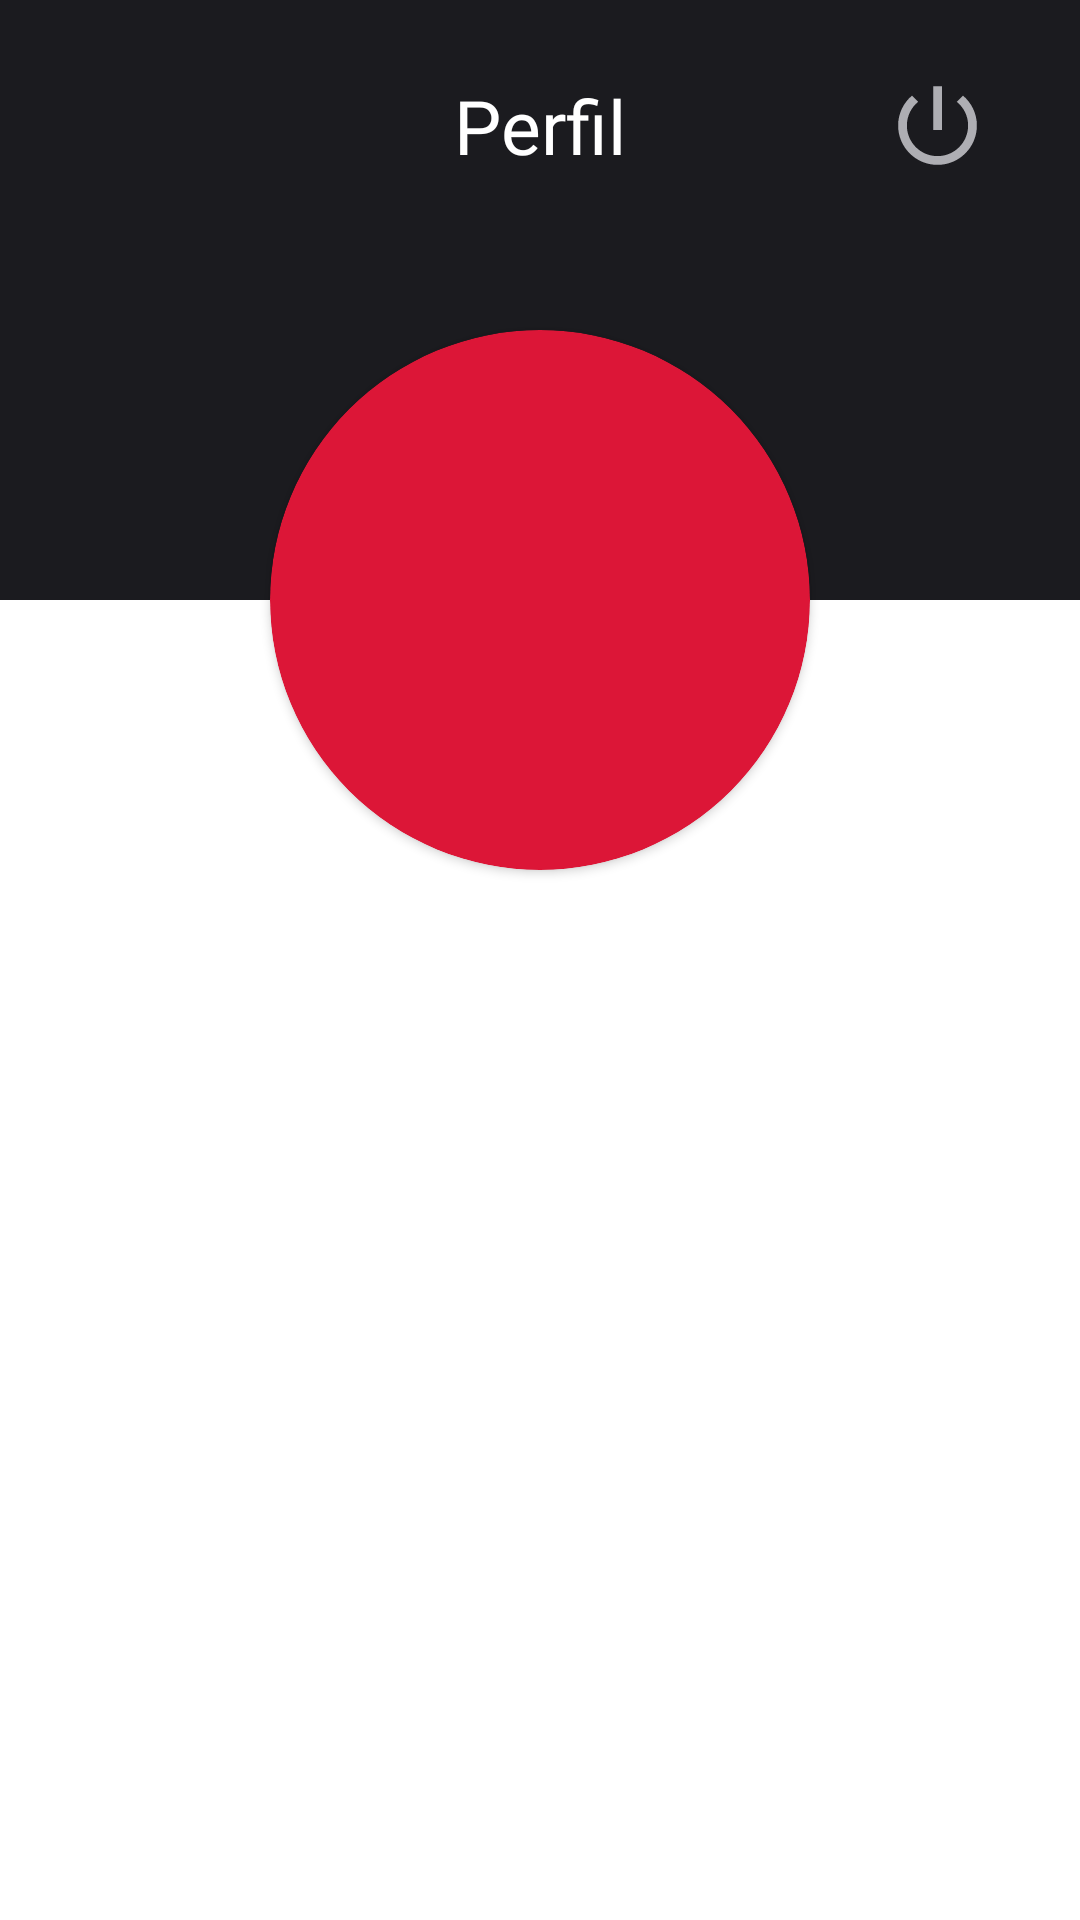

Screen size 1080*1920. Icon name, then its box in pixels as [x1,y1,x2,y2]:
power: [898,86,977,165]
